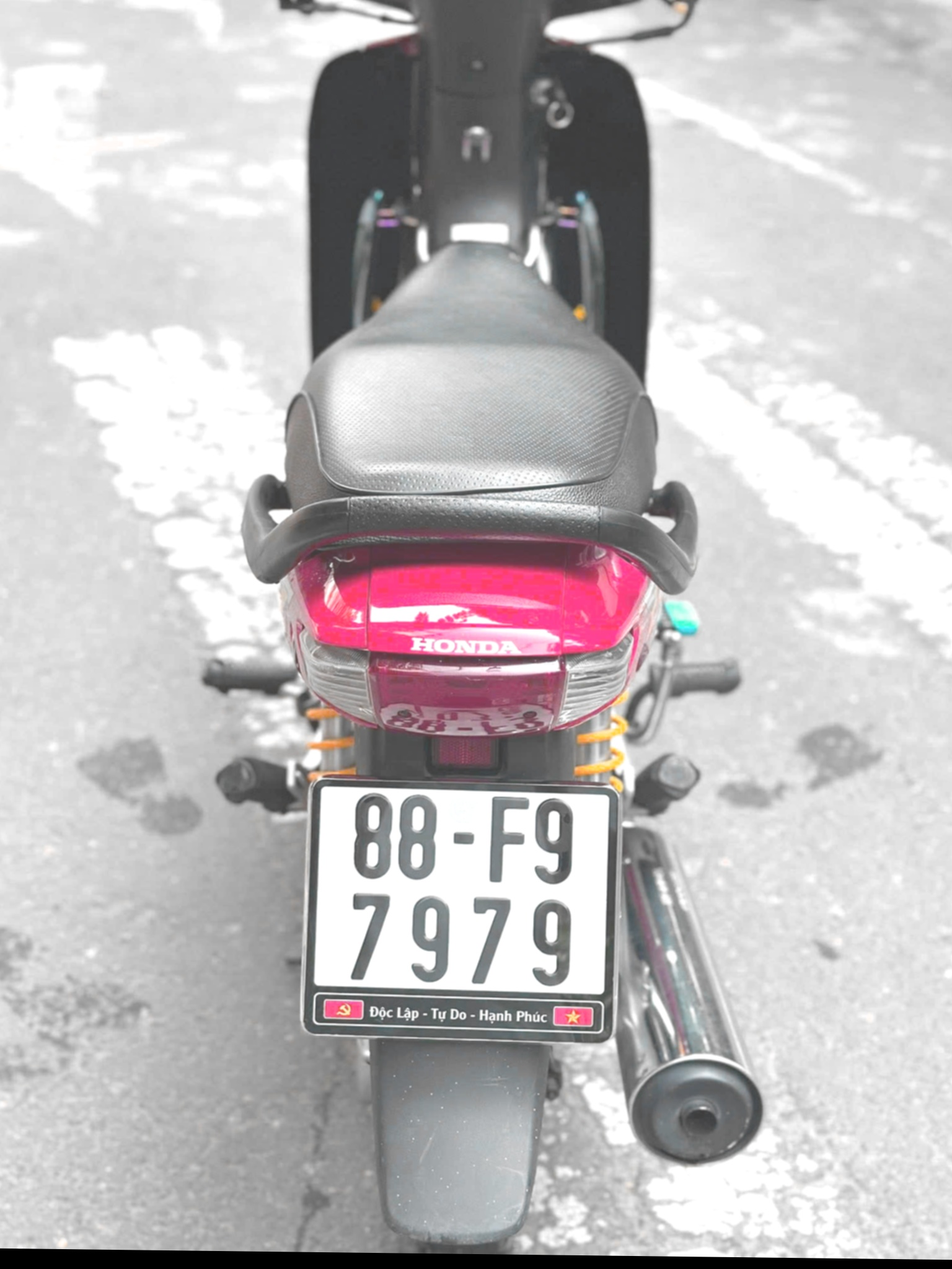Bien-so: (311, 784, 617, 994)
